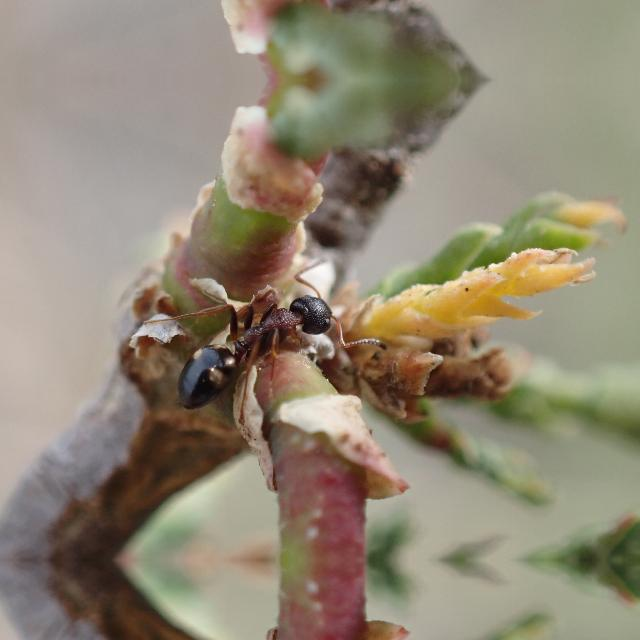Dolichoderus: (134, 260, 372, 422)
